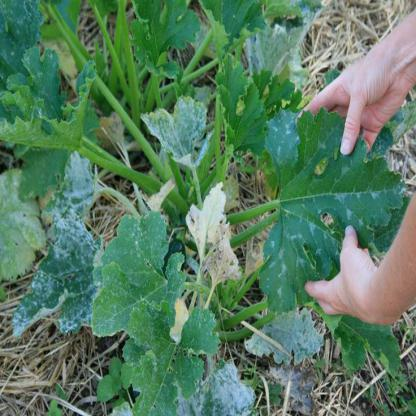squash powdery mildew leaf: (257, 96, 405, 301), (126, 303, 249, 415), (139, 98, 214, 167)
